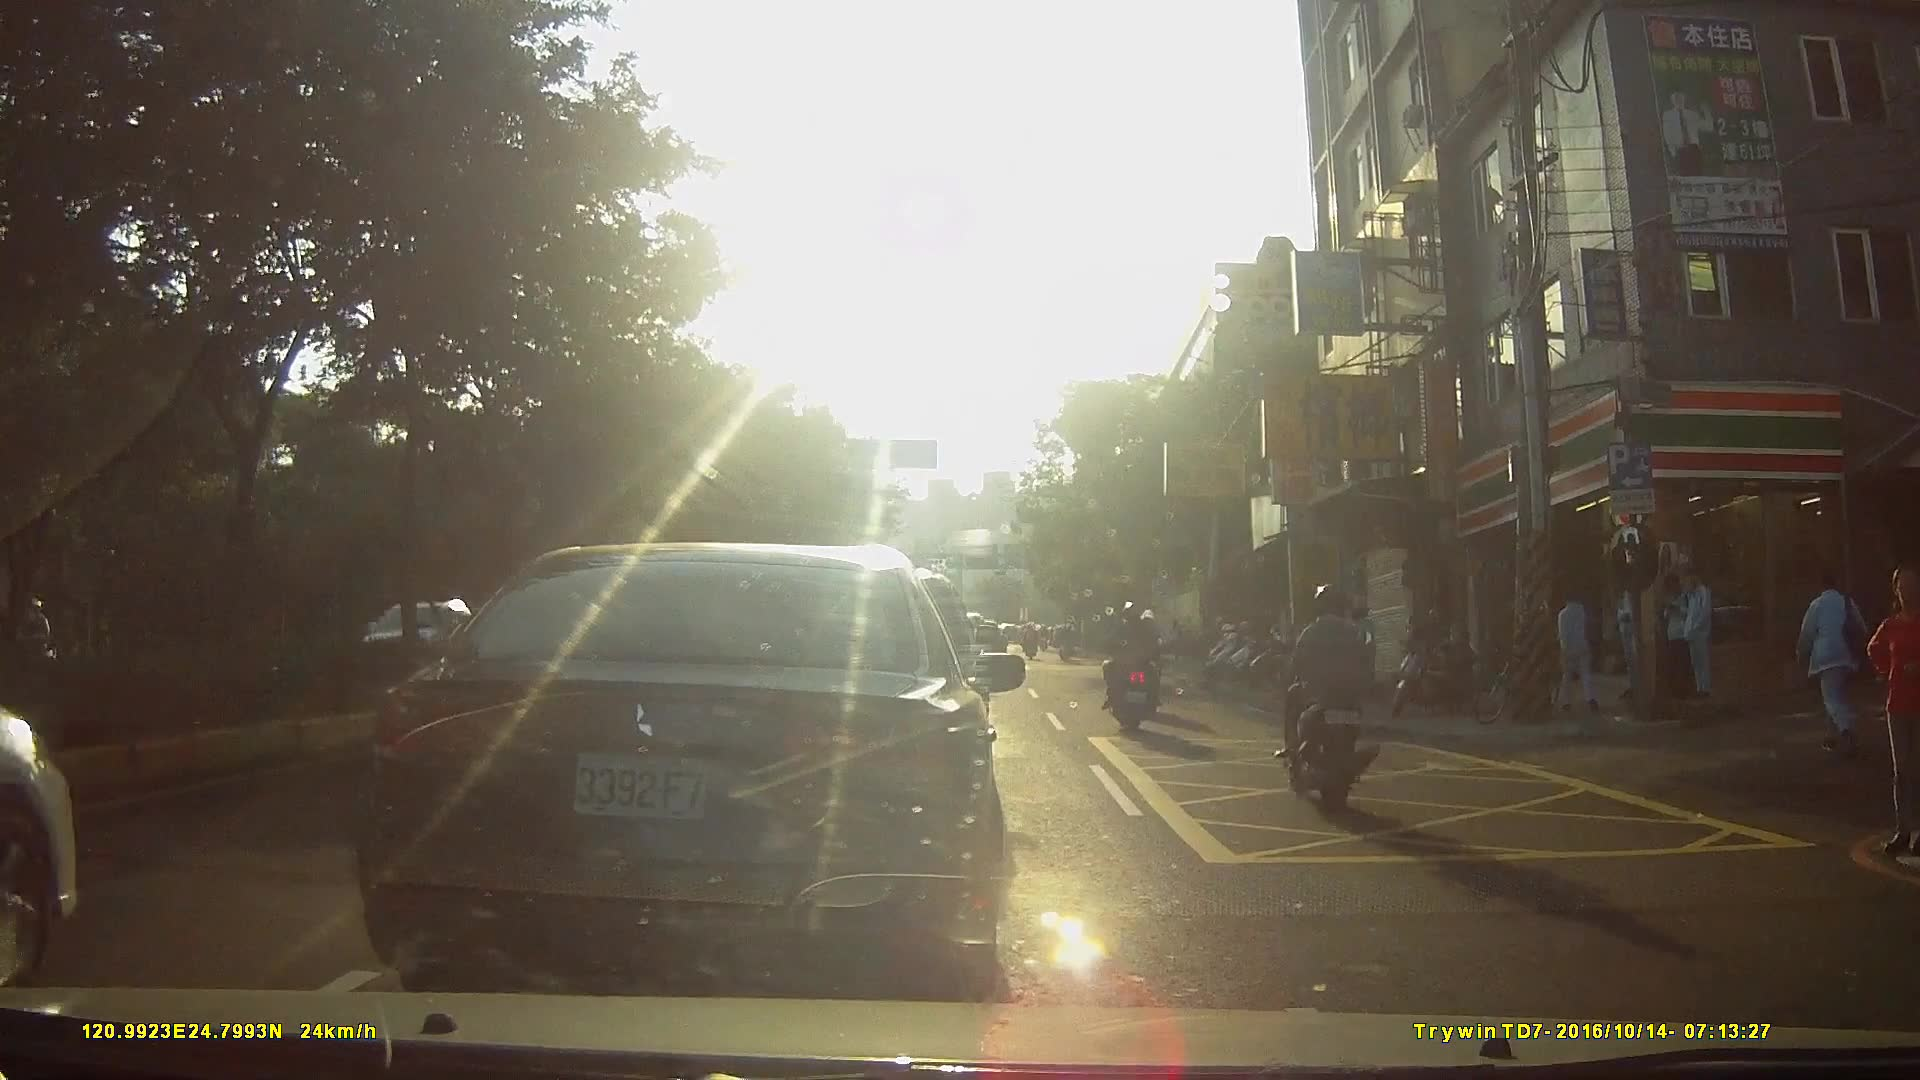pedestrian: (1793, 563, 1879, 760), (1864, 567, 1920, 854), (1550, 579, 1600, 715), (1610, 574, 1655, 708), (1669, 569, 1715, 699), (1660, 568, 1698, 710)
rider: (1276, 585, 1380, 808), (1103, 599, 1165, 732), (1056, 621, 1079, 665), (1021, 622, 1041, 664)
vehicle: (358, 542, 1037, 983), (357, 596, 480, 691)
